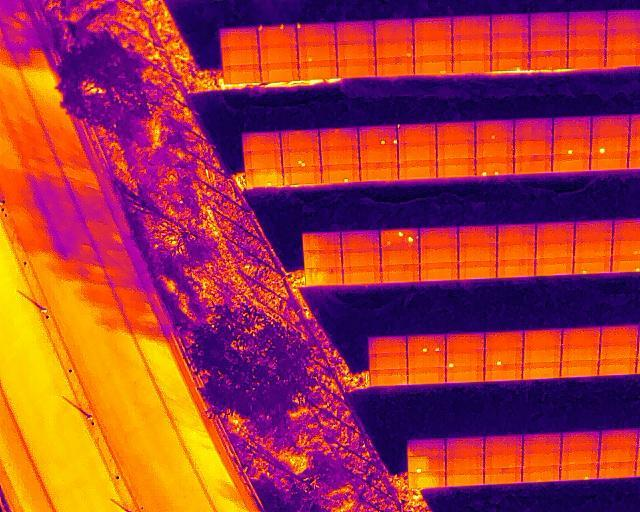Cell: (297, 24, 335, 45), (476, 120, 514, 141), (414, 55, 452, 75), (491, 51, 529, 70), (299, 43, 336, 62), (574, 256, 611, 274), (553, 136, 590, 154), (561, 464, 598, 482), (376, 40, 413, 58), (323, 164, 359, 182), (485, 349, 522, 366), (591, 137, 628, 154), (247, 168, 283, 185), (446, 351, 483, 367), (409, 456, 446, 472)
Cell-Multi: (257, 25, 296, 45), (380, 228, 419, 248), (359, 125, 396, 146), (407, 333, 445, 353), (476, 156, 513, 176), (283, 148, 319, 167)
No-Anomaly: (514, 117, 552, 140), (592, 115, 629, 138), (375, 19, 413, 41), (491, 31, 529, 53), (530, 29, 567, 51), (336, 20, 373, 42), (414, 17, 451, 39), (452, 15, 489, 37), (553, 116, 590, 138), (491, 13, 529, 34), (282, 129, 319, 150), (398, 123, 435, 144), (437, 121, 474, 142), (446, 333, 484, 353), (444, 437, 484, 456), (562, 431, 600, 451), (341, 229, 379, 249), (497, 223, 535, 243), (536, 222, 574, 242), (398, 160, 436, 180), (437, 158, 475, 178), (452, 34, 490, 54), (569, 29, 605, 50), (530, 11, 567, 31), (568, 10, 605, 30), (322, 145, 359, 165), (437, 140, 474, 160), (243, 131, 280, 151), (320, 128, 357, 148), (343, 265, 381, 284), (381, 264, 419, 283), (420, 262, 458, 281), (459, 261, 497, 280), (302, 232, 340, 251), (420, 226, 458, 245), (398, 142, 436, 161), (605, 10, 639, 31), (562, 343, 599, 362), (600, 341, 637, 360), (485, 331, 522, 350), (497, 259, 534, 278), (536, 257, 573, 276), (420, 244, 457, 263), (601, 430, 638, 449), (459, 225, 496, 244), (575, 221, 612, 240), (360, 162, 397, 181), (514, 155, 551, 174), (376, 57, 413, 76), (530, 50, 567, 69), (414, 37, 451, 56), (261, 44, 298, 63), (245, 149, 280, 169), (223, 45, 258, 65), (522, 362, 560, 380), (369, 337, 407, 355), (601, 324, 639, 342), (303, 250, 341, 268), (342, 249, 380, 267), (381, 247, 419, 265), (408, 439, 444, 458), (574, 239, 612, 257), (514, 138, 552, 156), (338, 58, 374, 77), (453, 54, 491, 72), (408, 366, 445, 384), (561, 359, 598, 377), (599, 358, 636, 376), (524, 329, 561, 347), (563, 327, 600, 345), (306, 267, 343, 285), (459, 244, 496, 262), (497, 242, 534, 260), (536, 240, 573, 258), (485, 435, 522, 453), (524, 433, 561, 451), (553, 154, 590, 172), (360, 145, 397, 163), (476, 140, 513, 158), (599, 461, 636, 479), (445, 455, 484, 472), (221, 28, 257, 46), (590, 153, 626, 171), (263, 62, 299, 80), (568, 49, 604, 67), (338, 42, 374, 60), (523, 346, 561, 363), (606, 30, 640, 49), (483, 468, 521, 485), (225, 64, 260, 82), (485, 365, 522, 382), (523, 450, 560, 467), (284, 167, 321, 184), (484, 453, 522, 469), (561, 450, 599, 466), (606, 48, 639, 66), (370, 369, 407, 385), (446, 367, 483, 383), (369, 353, 406, 369), (409, 472, 446, 488), (446, 471, 483, 487), (300, 62, 336, 78), (408, 353, 446, 368), (599, 448, 636, 463), (523, 465, 559, 480)
